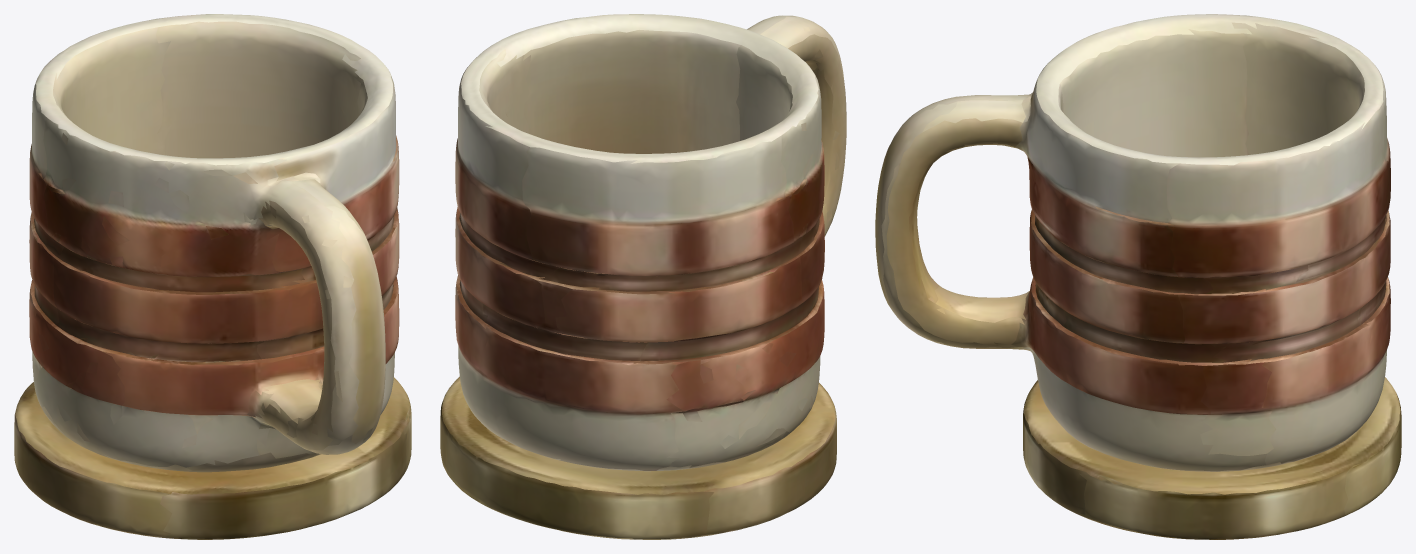
3 views of the same model, side by side, from view 1: azimuth 30°, elevation 25°; view 2: azimuth 150°, elevation 25°; view 3: azimuth 270°, elevation 25° (orthographic).
Visible parts, largest first — view 1: geometry_0; view 2: geometry_0; view 3: geometry_0.
Part boxes in pixels (bbox=[...]): geometry_0: bbox=[14, 14, 411, 539]; geometry_0: bbox=[440, 14, 846, 539]; geometry_0: bbox=[875, 14, 1401, 539].
Size of the model in its own units: 0.1016 by 0.105 by 0.1344.
Materials: 1 (1 with a texture image).
